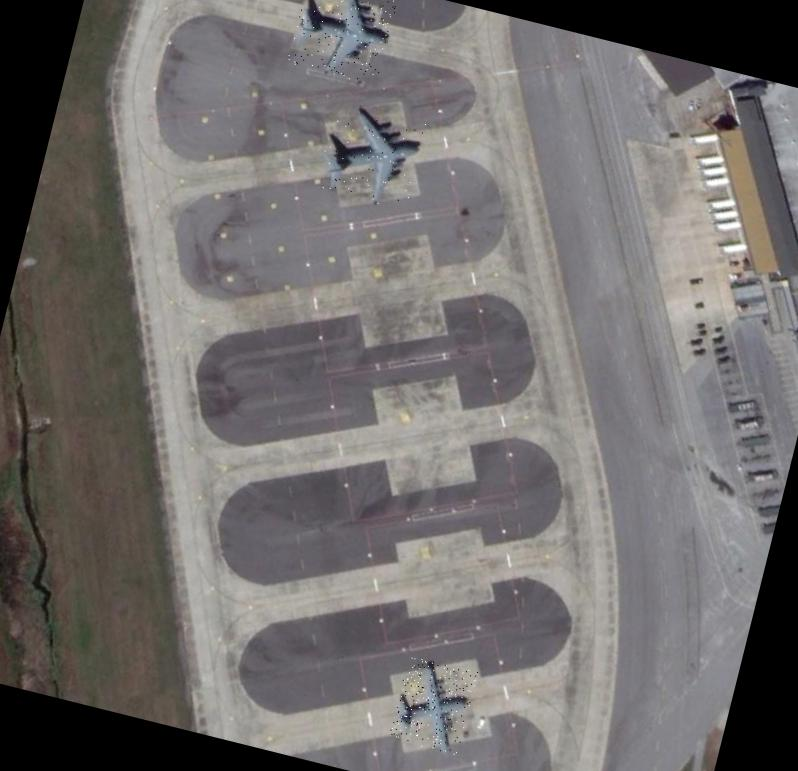A2: (389, 654, 478, 756)
A3: (315, 102, 427, 213), (286, 0, 398, 86)
